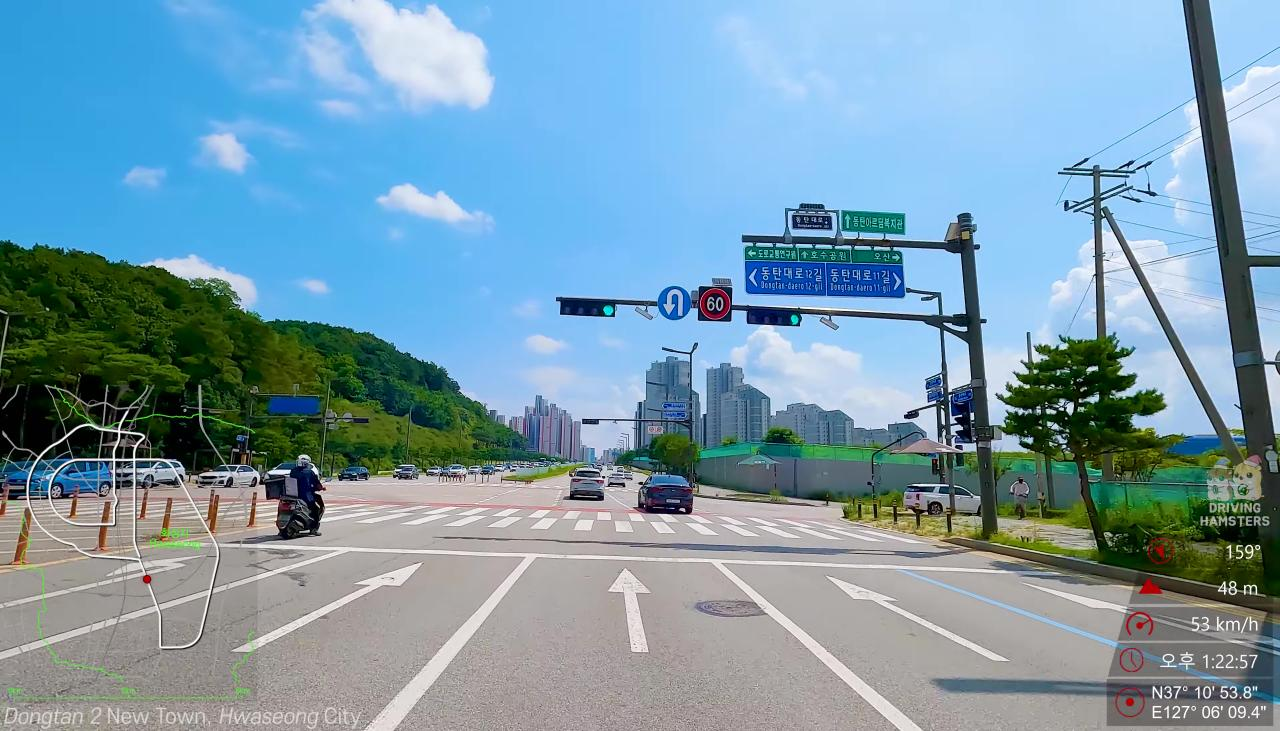Green Light: (602, 304, 615, 316), (789, 313, 801, 326)
